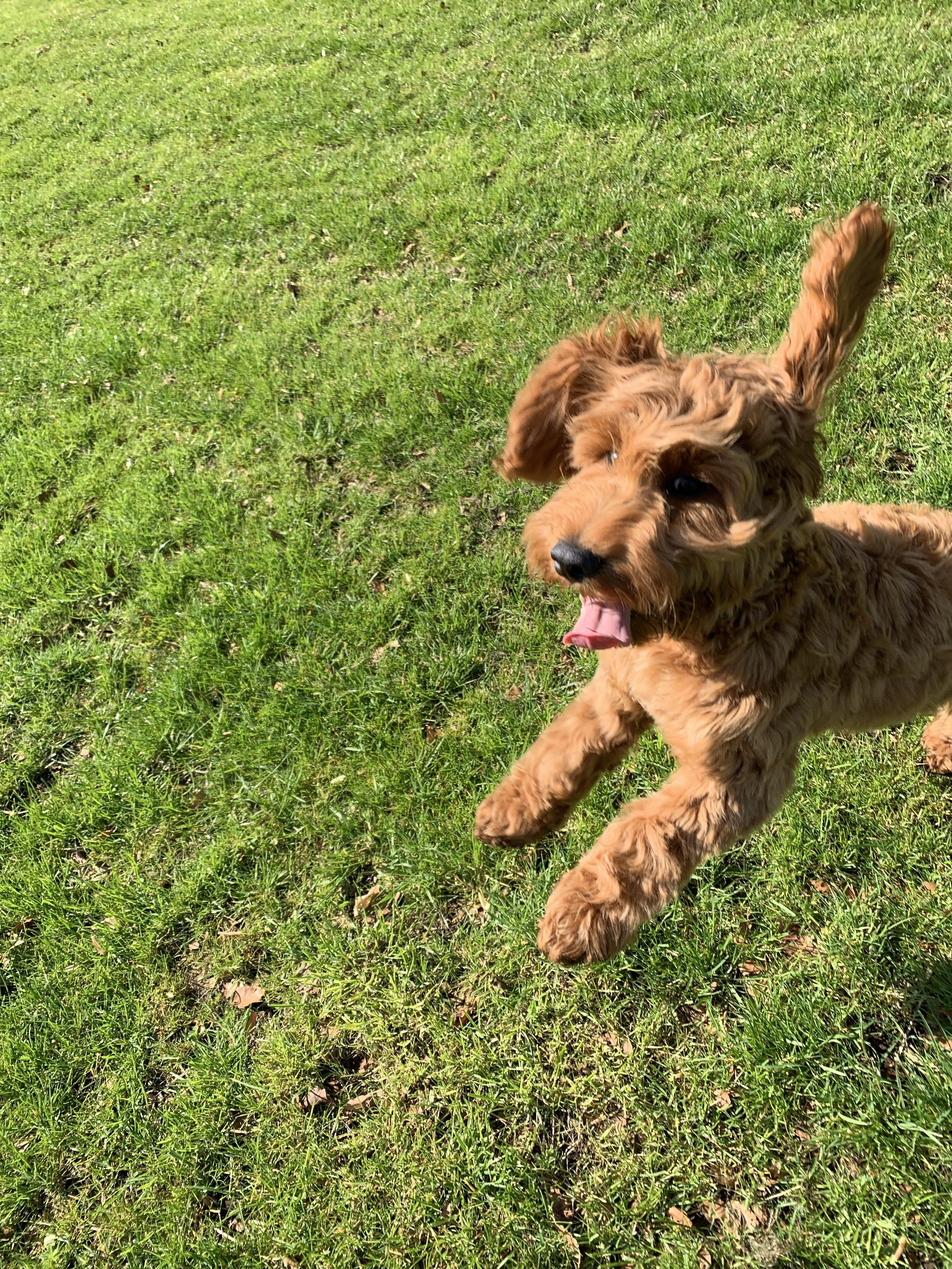puppy-dog: (468, 196, 952, 966)
